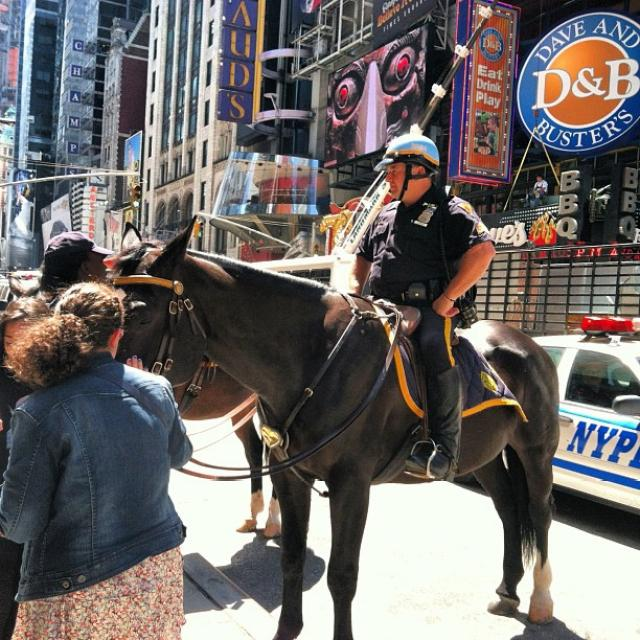Vehicle: (530, 317, 640, 520)
